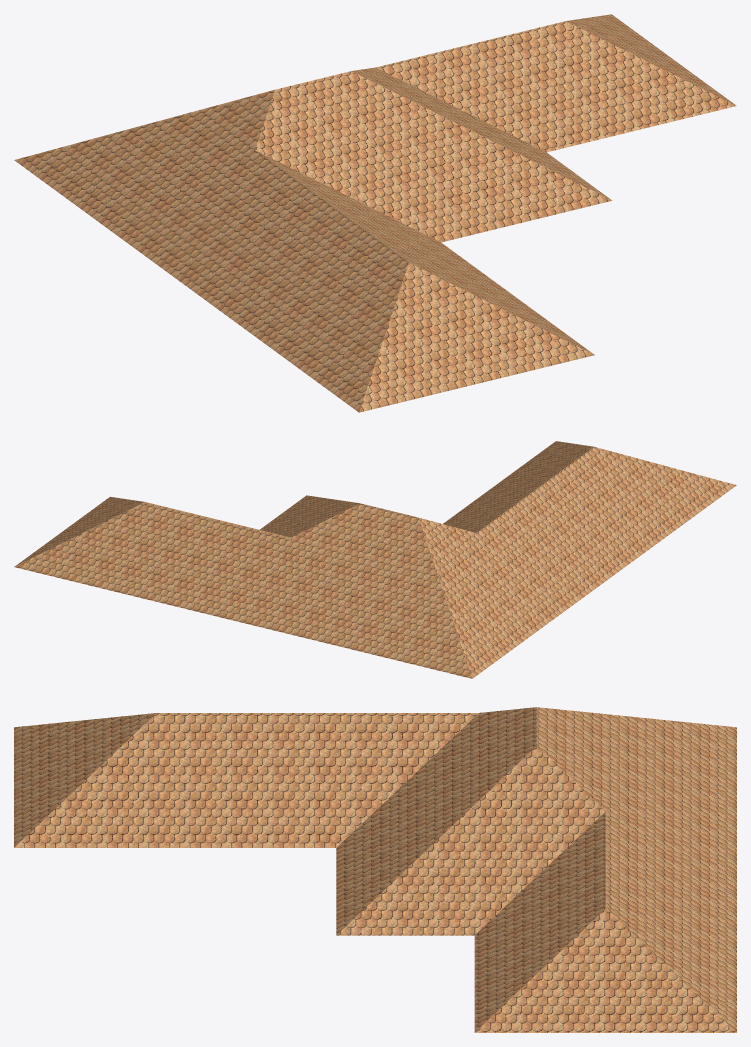
File: telhado36a.dae
3 renders of one model, top to bottom at view 1: azimuth 30°, elevation 25°; view 2: azimuth 150°, elevation 25°; view 3: azimuth 270°, elevation 25°, orthographic. The views are drawn at different scales.
Visible parts, largest first — view 1: SketchUp; view 2: SketchUp; view 3: SketchUp.
Part boxes in pixels (left/top/right/bottom): SketchUp: left=14, top=14, right=736, bottom=412; SketchUp: left=14, top=441, right=736, bottom=678; SketchUp: left=14, top=707, right=736, bottom=1032.
Size of the model in its own units: 618 by 618 by 98.88.
Materials: 2 (1 with a texture image).
